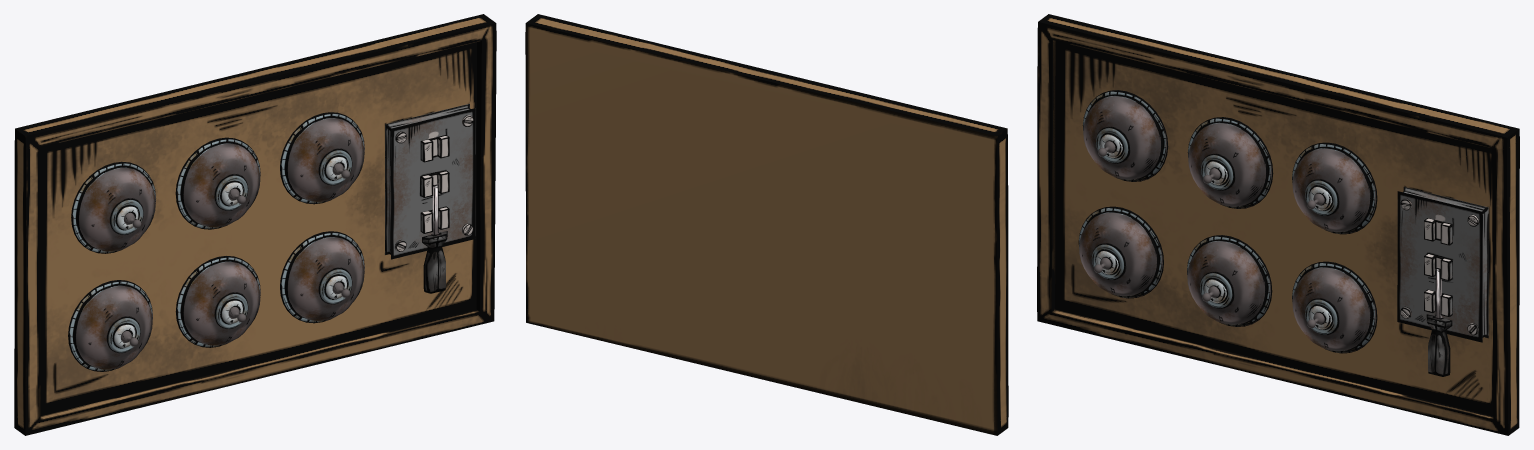
Rendered from Lightbox.fbx.
3 renders of one model, left to right at view 1: azimuth 30°, elevation 25°; view 2: azimuth 150°, elevation 25°; view 3: azimuth 330°, elevation 25°, orthographic.
Parts seen in each view (by area): view 1: CuadroLucesNuevo, Object001, Interruptor esfera003, Interruptor esfera001, Interruptor esfera002, Interruptor esfera, Interruptor esfera004, Interruptor esfera005, PalancaInterruptGeneral; view 2: CuadroLucesNuevo; view 3: CuadroLucesNuevo, Object001, Interruptor esfera004, Interruptor esfera005, Interruptor esfera002, Interruptor esfera001, Interruptor esfera003, Interruptor esfera, PalancaInterruptGeneral.
Part boxes in pixels (x1=…): CuadroLucesNuevo: x1=14, y1=14, x2=496, y2=435; Object001: x1=385, y1=103, x2=475, y2=259; Interruptor esfera003: x1=175, y1=137, x2=260, y2=229; Interruptor esfera001: x1=68, y1=280, x2=152, y2=371; Interruptor esfera002: x1=175, y1=256, x2=260, y2=347; Interruptor esfera: x1=71, y1=161, x2=155, y2=253; Interruptor esfera004: x1=280, y1=112, x2=364, y2=204; Interruptor esfera005: x1=280, y1=231, x2=364, y2=323; PalancaInterruptGeneral: x1=422, y1=183, x2=447, y2=293; CuadroLucesNuevo: x1=525, y1=14, x2=1008, y2=435; CuadroLucesNuevo: x1=1037, y1=14, x2=1519, y2=435; Object001: x1=1397, y1=187, x2=1488, y2=342; Interruptor esfera004: x1=1292, y1=142, x2=1377, y2=234; Interruptor esfera005: x1=1292, y1=261, x2=1377, y2=353; Interruptor esfera002: x1=1187, y1=235, x2=1272, y2=326; Interruptor esfera001: x1=1078, y1=206, x2=1163, y2=298; Interruptor esfera003: x1=1187, y1=117, x2=1273, y2=208; Interruptor esfera: x1=1082, y1=90, x2=1168, y2=181; PalancaInterruptGeneral: x1=1426, y1=267, x2=1452, y2=376.
Size of the model in its own units: 34.48 by 4.85 by 21.02.
